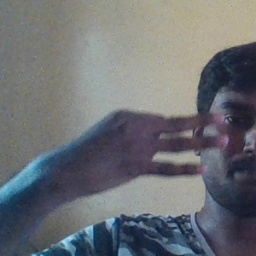K: (64, 109, 230, 190)
